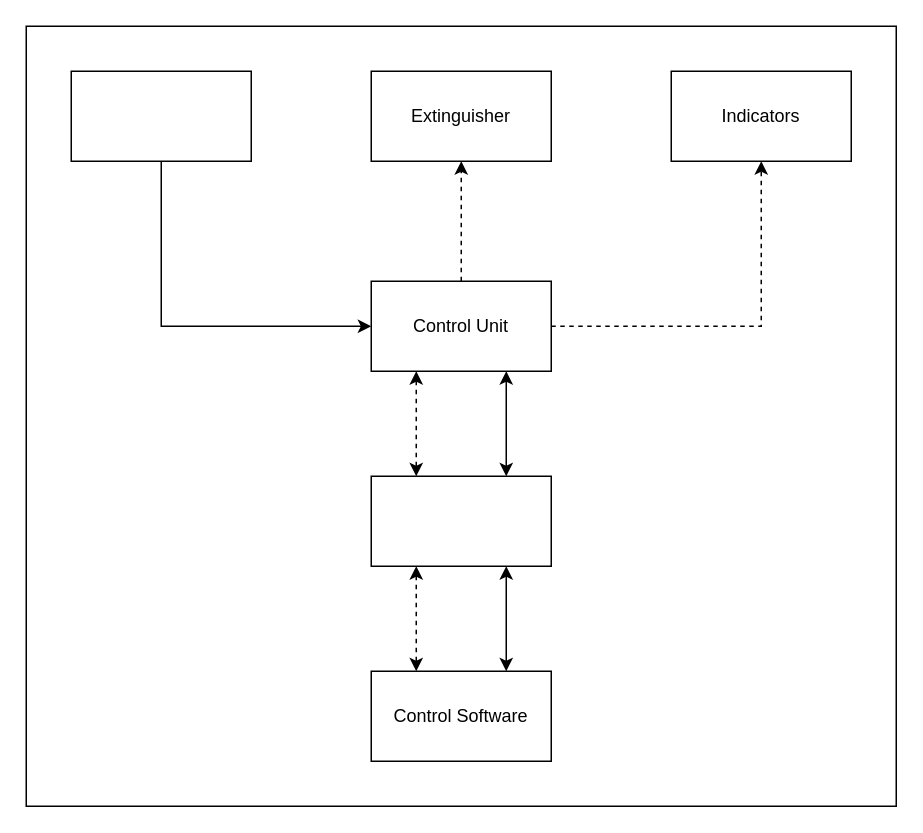
Some shapes in this 923 by 833 pixel diagram are drawn without their labels. The shapes that lost their labels are listed below. From the top down, each one's box as (x1, y1, x2, y2) in pixels, then its label:
(70, 70, 251, 161): Sensors
(370, 475, 551, 566): Communication Unit
